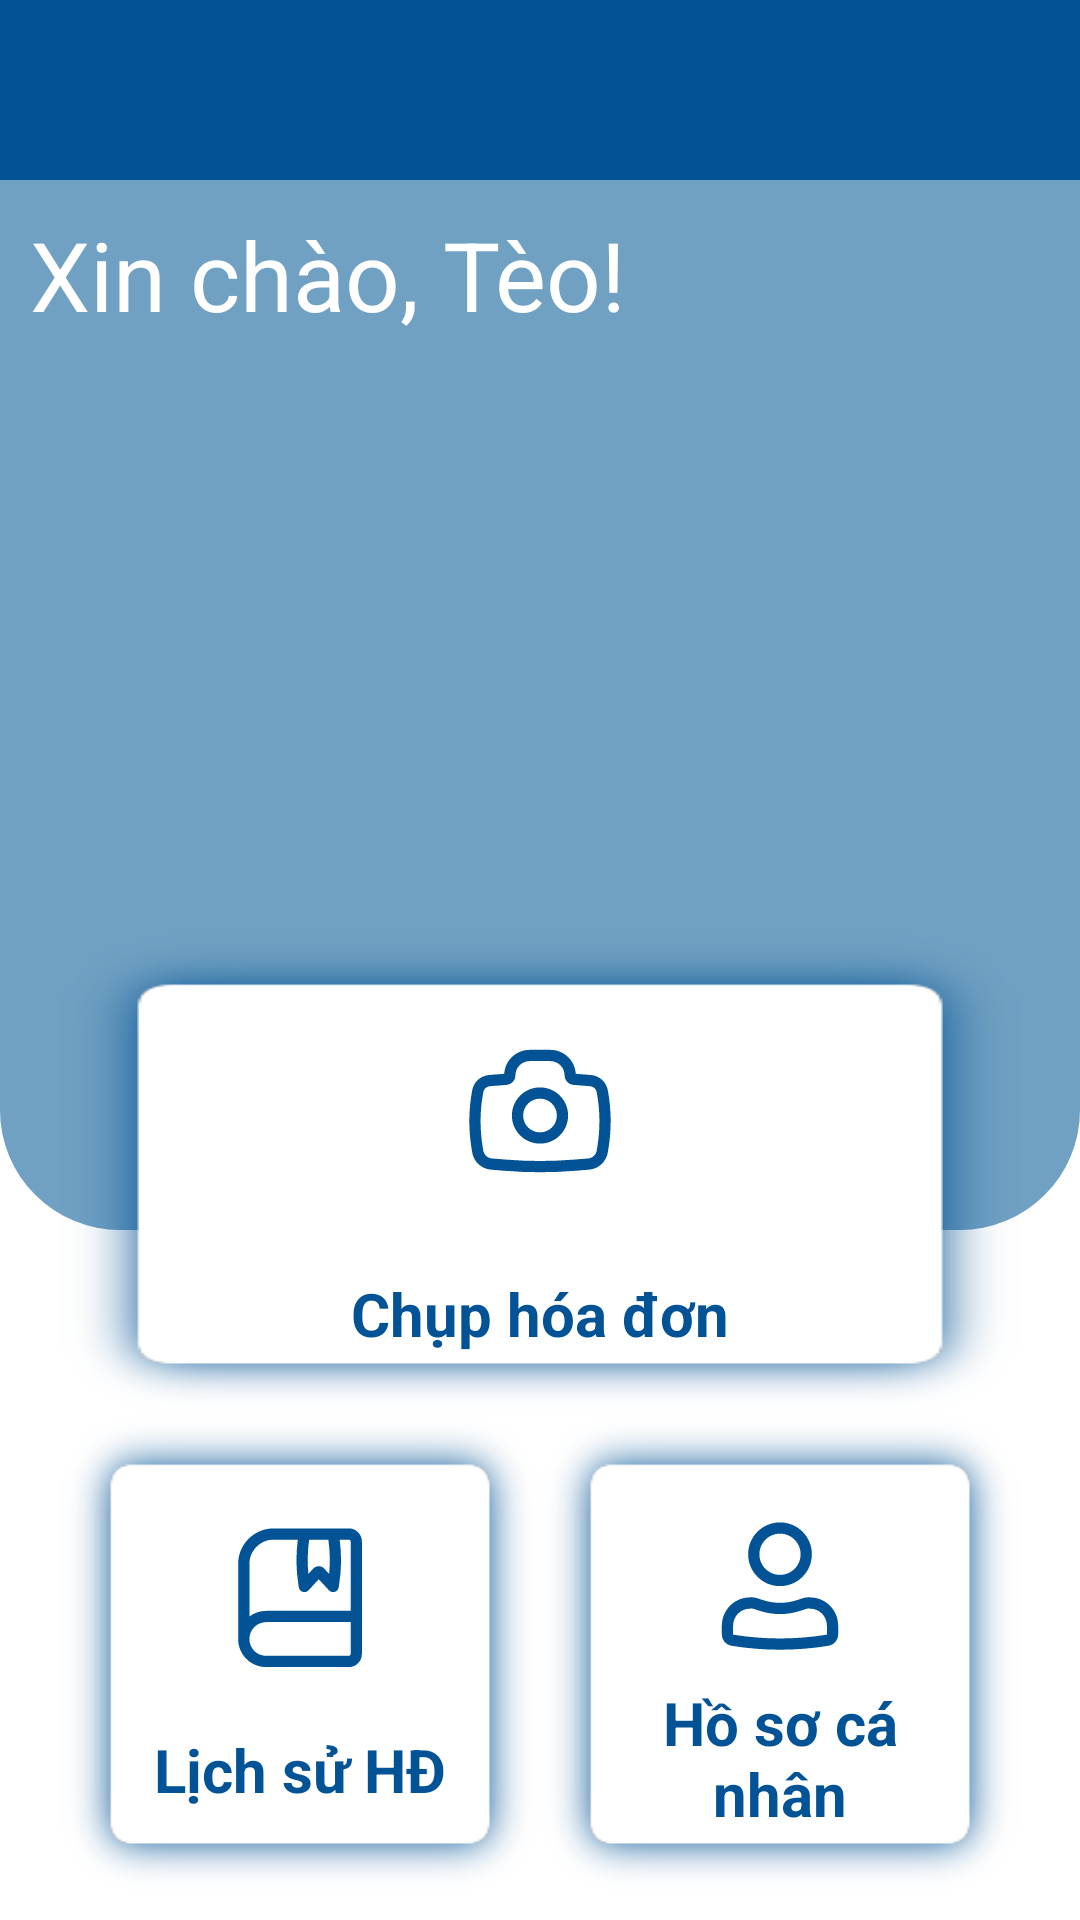

Locate icon controls on the screen. Image size 1080 × 1920, boxes as BBox(x1, y1, x2, y2).
book markfitus: BBox(238, 1528, 362, 1667)
userfitus: BBox(721, 1522, 839, 1650)
